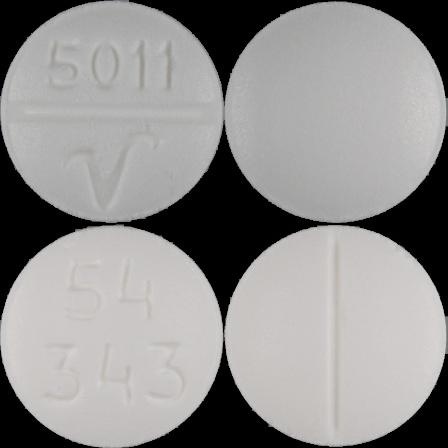63629-4546: (0, 0, 224, 224)
